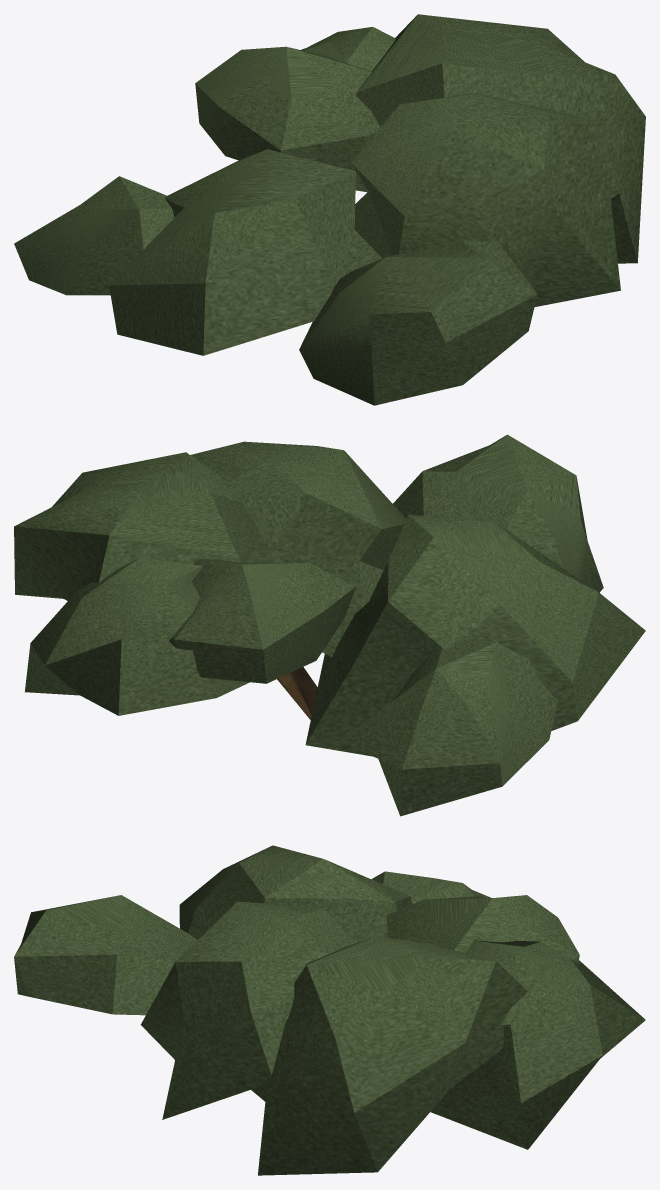
Rendered from bush_3.glb.
3 renders of one model, top to bottom at view 1: azimuth 30°, elevation 25°; view 2: azimuth 150°, elevation 25°; view 3: azimuth 270°, elevation 25°, orthographic. The views are drawn at different scales.
Visible parts, largest first — view 1: bush_3; view 2: bush_3; view 3: bush_3.
Boxes of the visible parts, left/top/right/bottom form: bush_3: left=14, top=14, right=645, bottom=405; bush_3: left=14, top=434, right=645, bottom=816; bush_3: left=14, top=845, right=645, bottom=1175.
Size of the model in its own units: 2.93 by 1.17 by 3.02.
2 materials, 2 textured.
